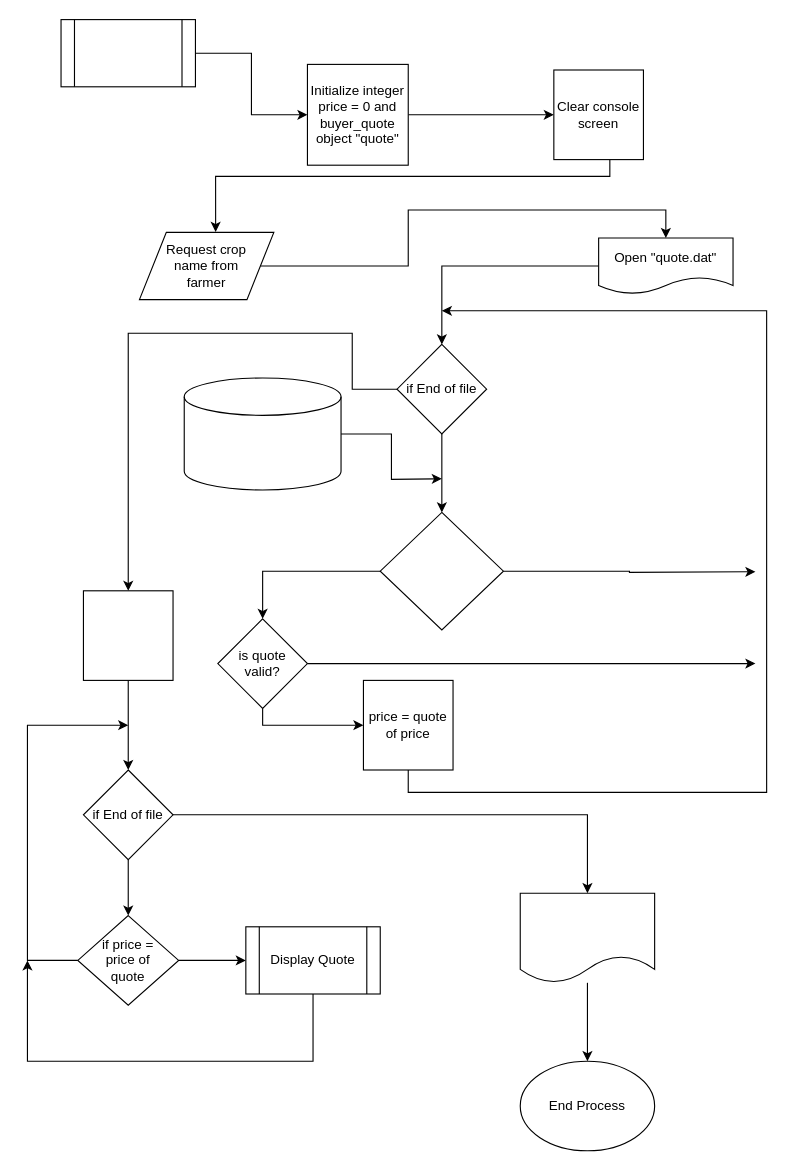
This 795x1170 diagram has some shape labels left out. The box of each missing label's shape, as (x1, y1, x2, y2) in pixels:
Close "quote.dat": (519, 892, 655, 983)
find_by_price(): (60, 18, 195, 87)
if quote price>price and quote crop = given input: (379, 511, 503, 630)
Read data from "quotes.dat" into quote object: (183, 377, 341, 490)
Set file pointer to beginning: (82, 590, 173, 680)
